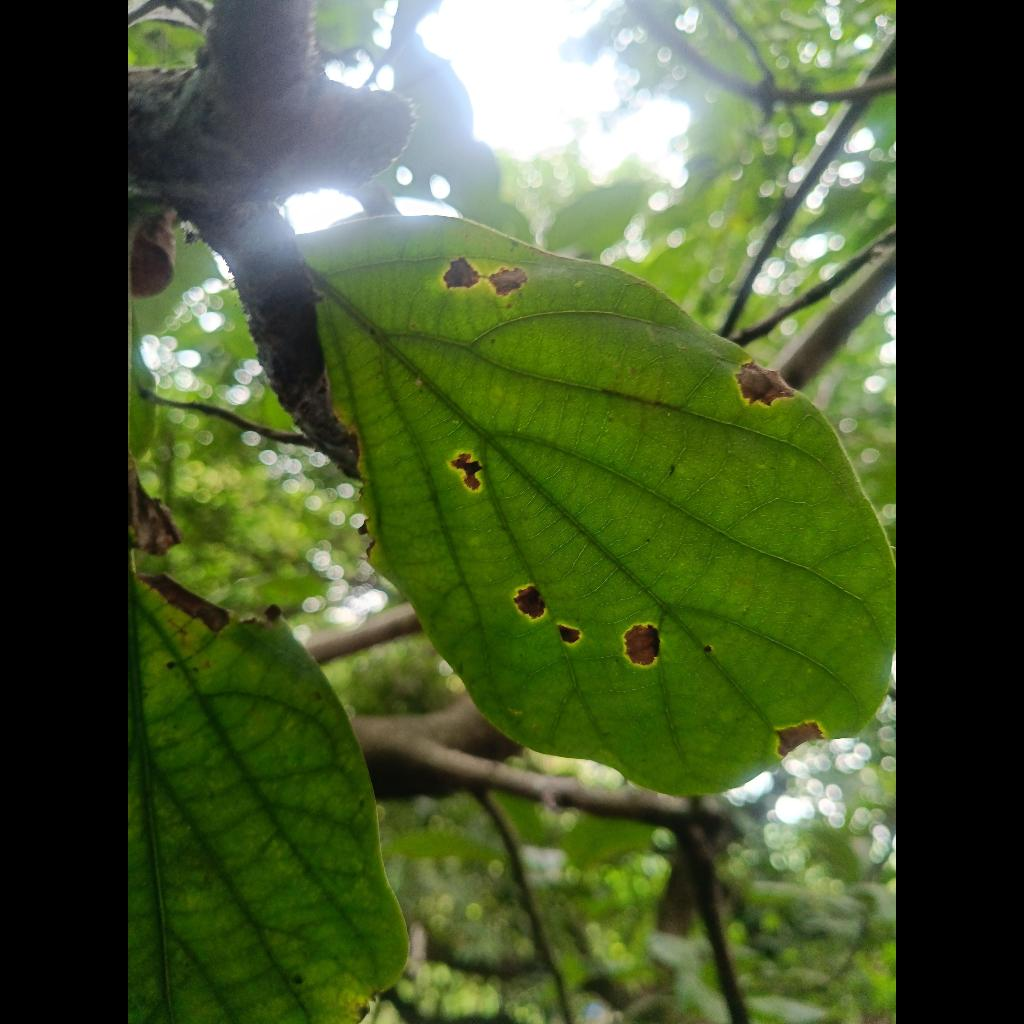Anthracnose: (302, 218, 896, 795)
